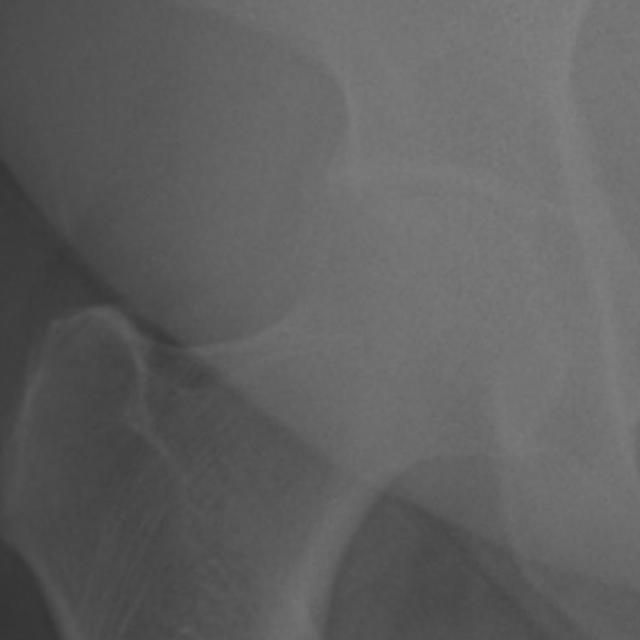Fitted_femural_head: (266, 196, 432, 266)
